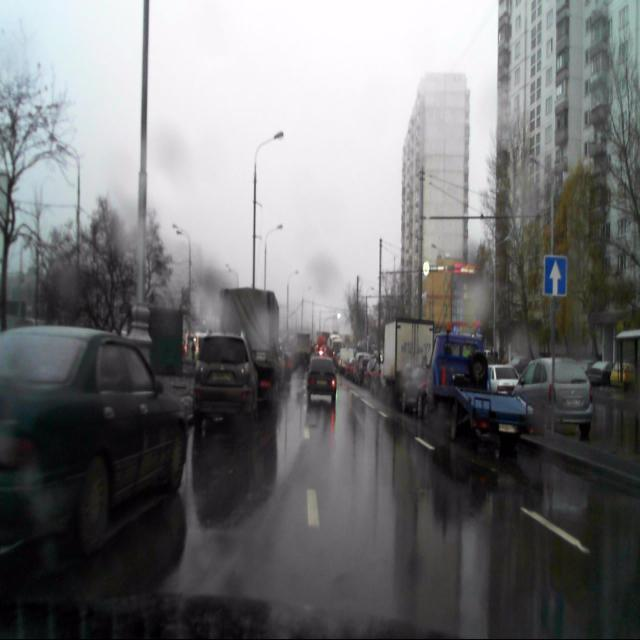road sign: (543, 255, 566, 297)
